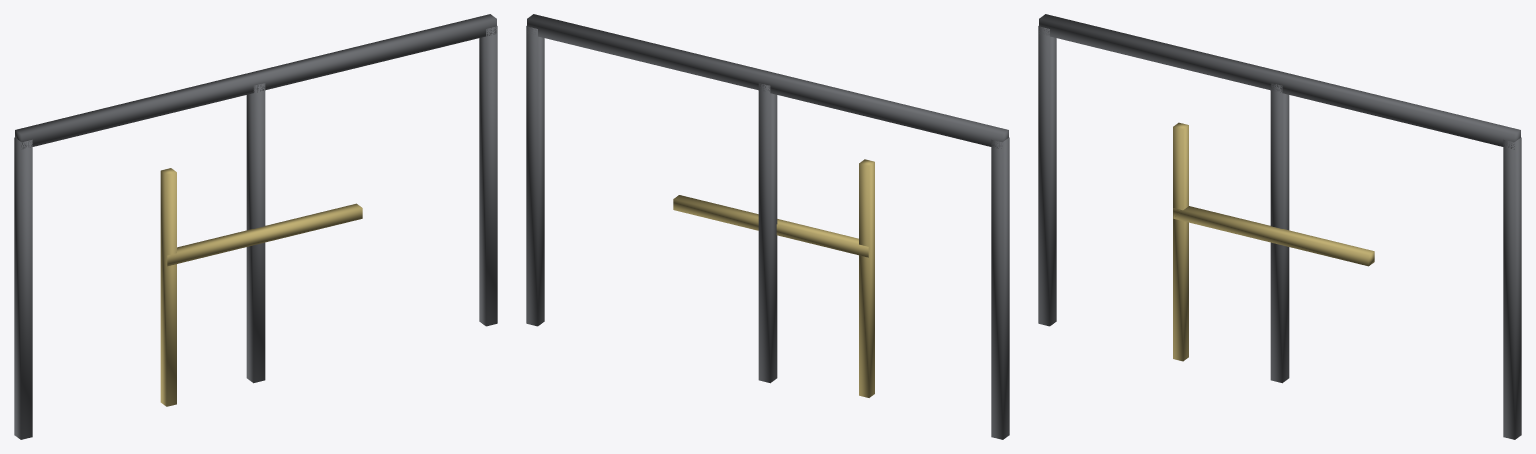
Rendered from steel_gate_l180_h110.glb.
The picture shows the model from 3 angles, left to right: view 1: azimuth 30°, elevation 25°; view 2: azimuth 150°, elevation 25°; view 3: azimuth 330°, elevation 25°; orthographic projection.
Visible parts, largest first — view 1: world; view 2: world; view 3: world.
Part boxes in pixels (bbox=[...]): world: bbox=[14, 14, 497, 439]; world: bbox=[526, 14, 1009, 439]; world: bbox=[1038, 14, 1521, 439].
Bounding box in the file's own units: 1.85 × 1.13 × 0.0825.
